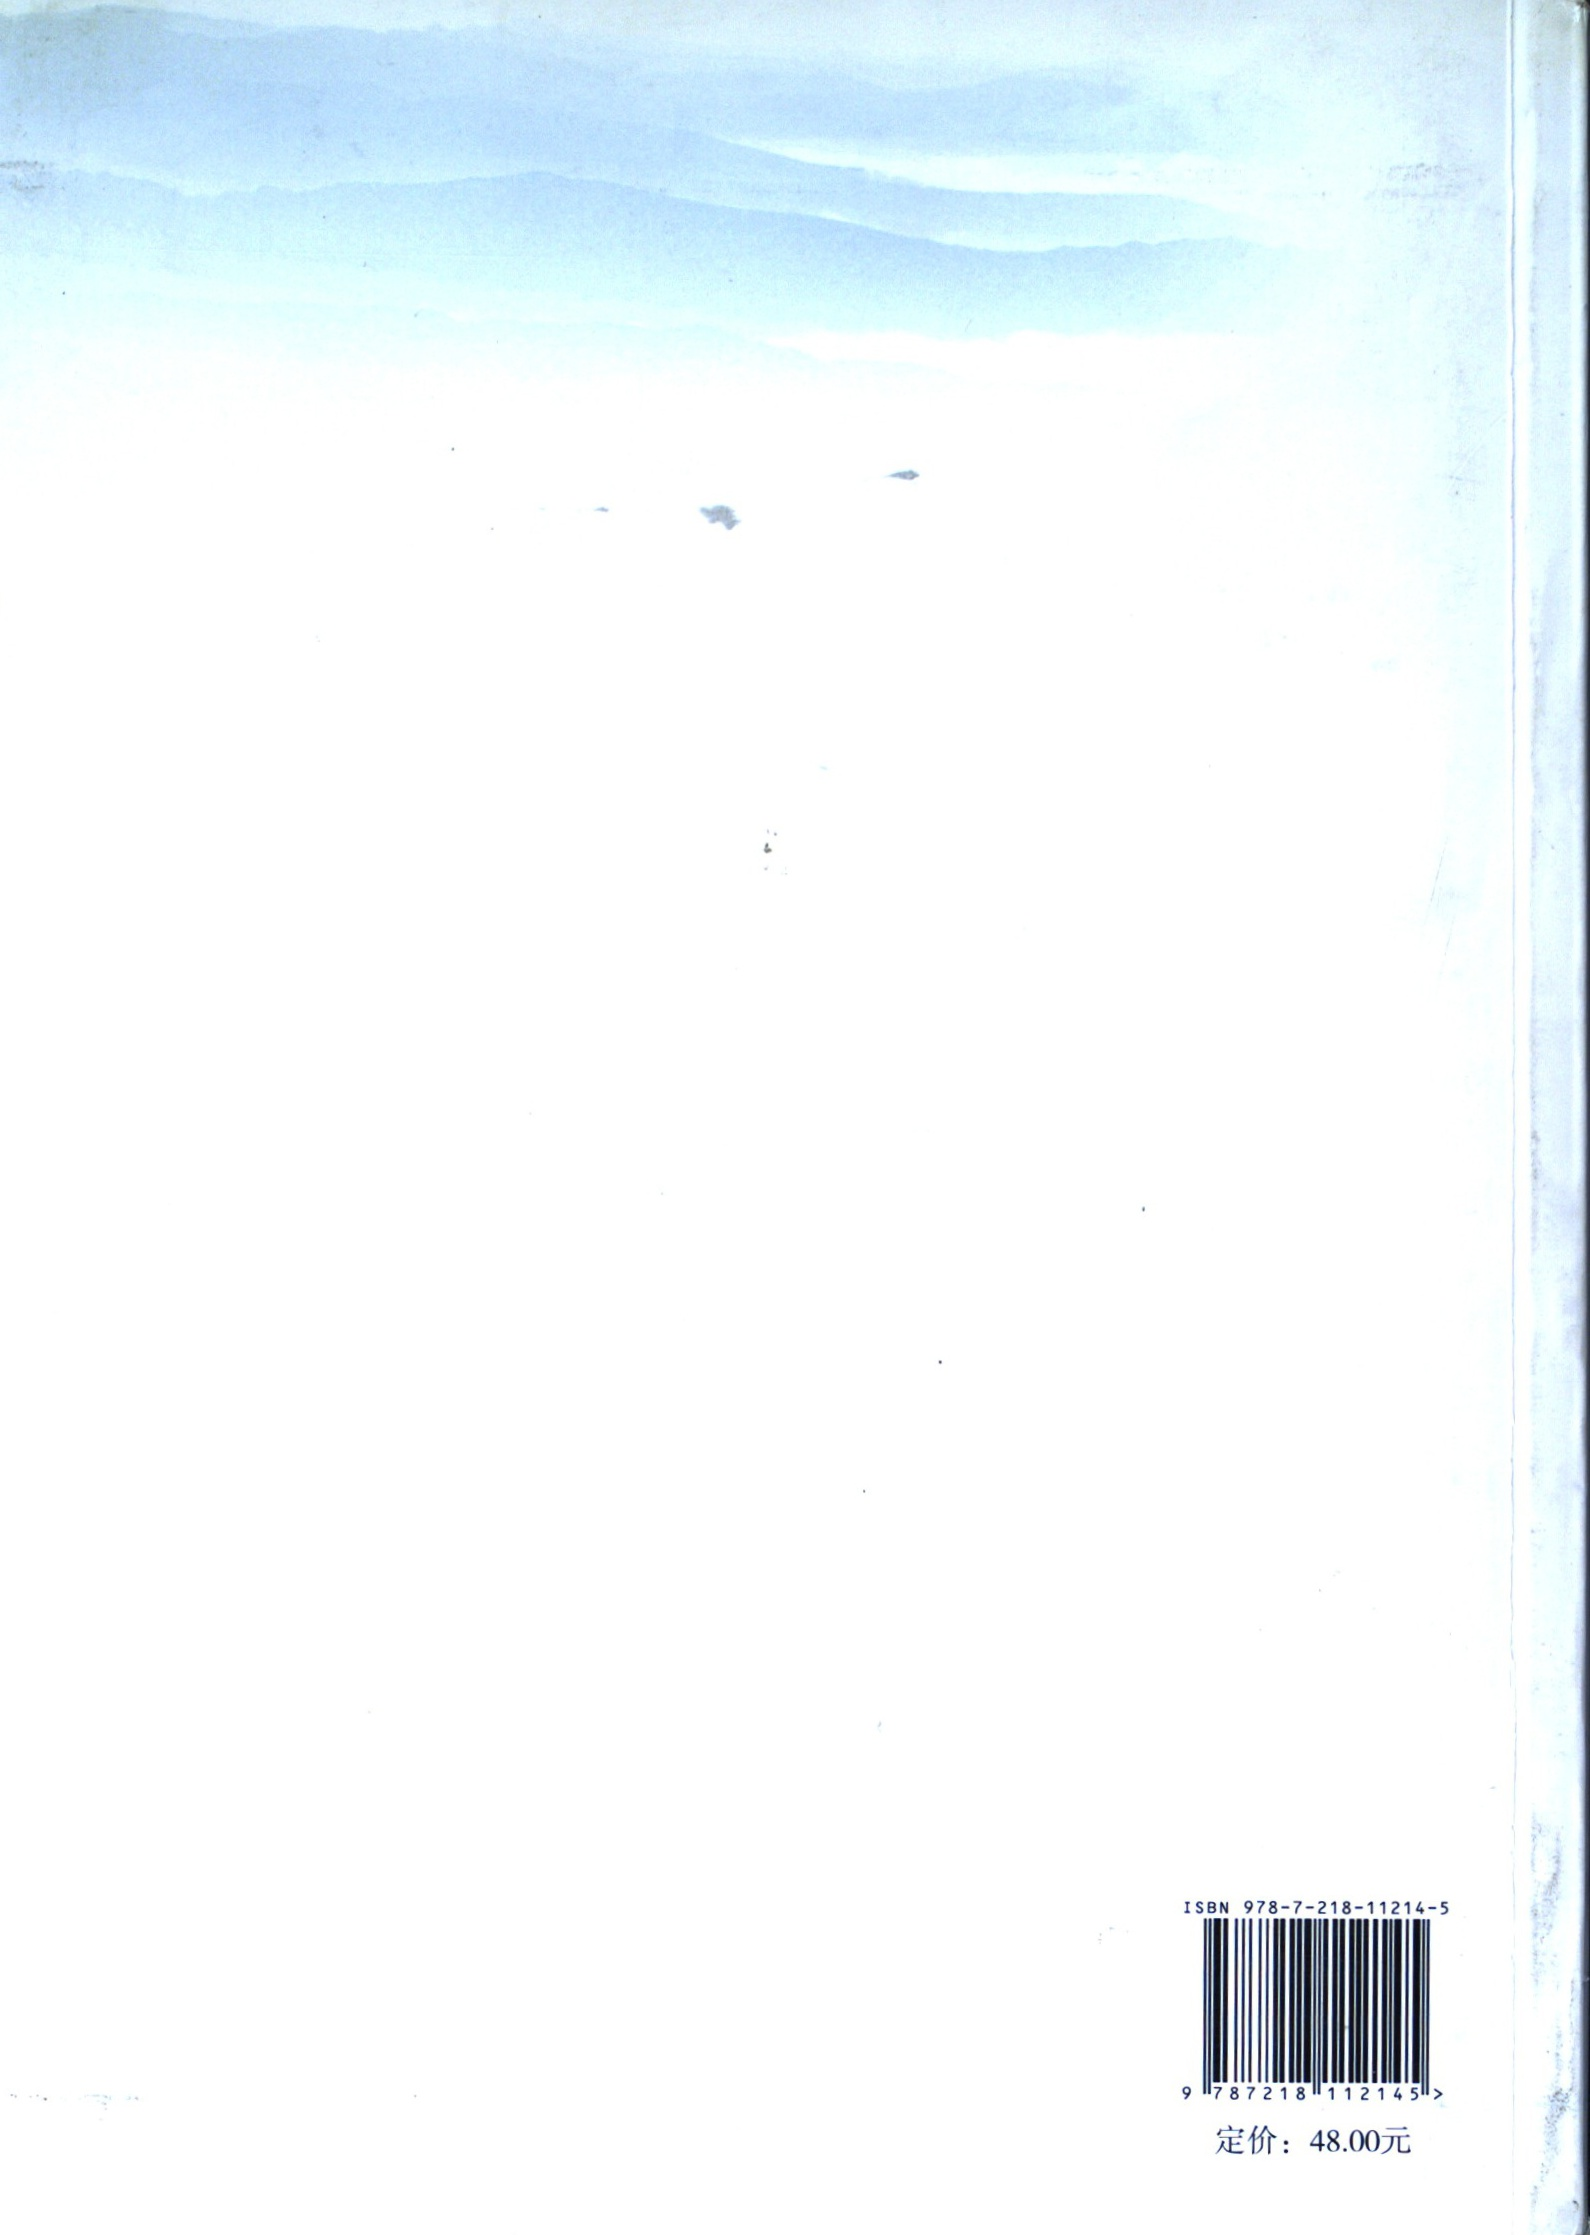barcode: (1172, 1884, 1463, 2101)
